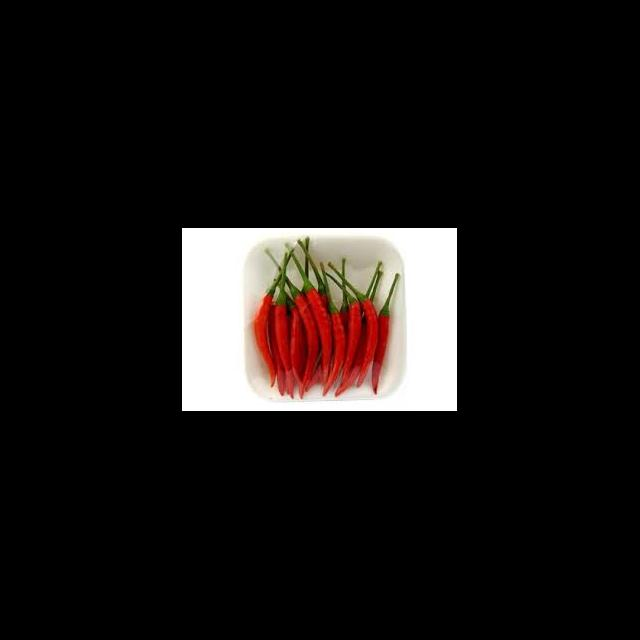chili_pepper: (336, 302, 374, 396), (241, 296, 275, 390), (353, 298, 379, 395), (304, 290, 330, 374), (374, 303, 395, 394), (346, 297, 364, 395), (269, 300, 291, 375), (332, 307, 350, 396), (291, 292, 309, 377)
